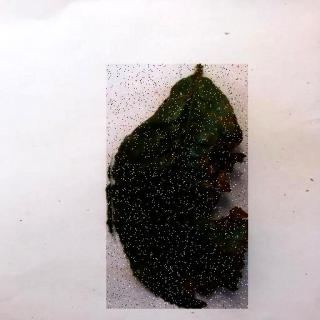Algal Leaf: (108, 65, 250, 310)
